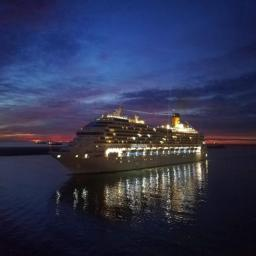cruises: (47, 108, 211, 179)
